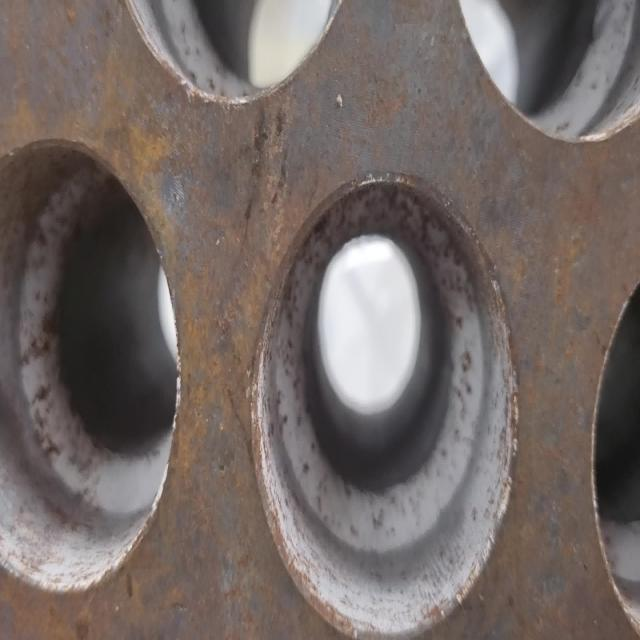Hole: (251, 167, 519, 637), (1, 132, 181, 598)
